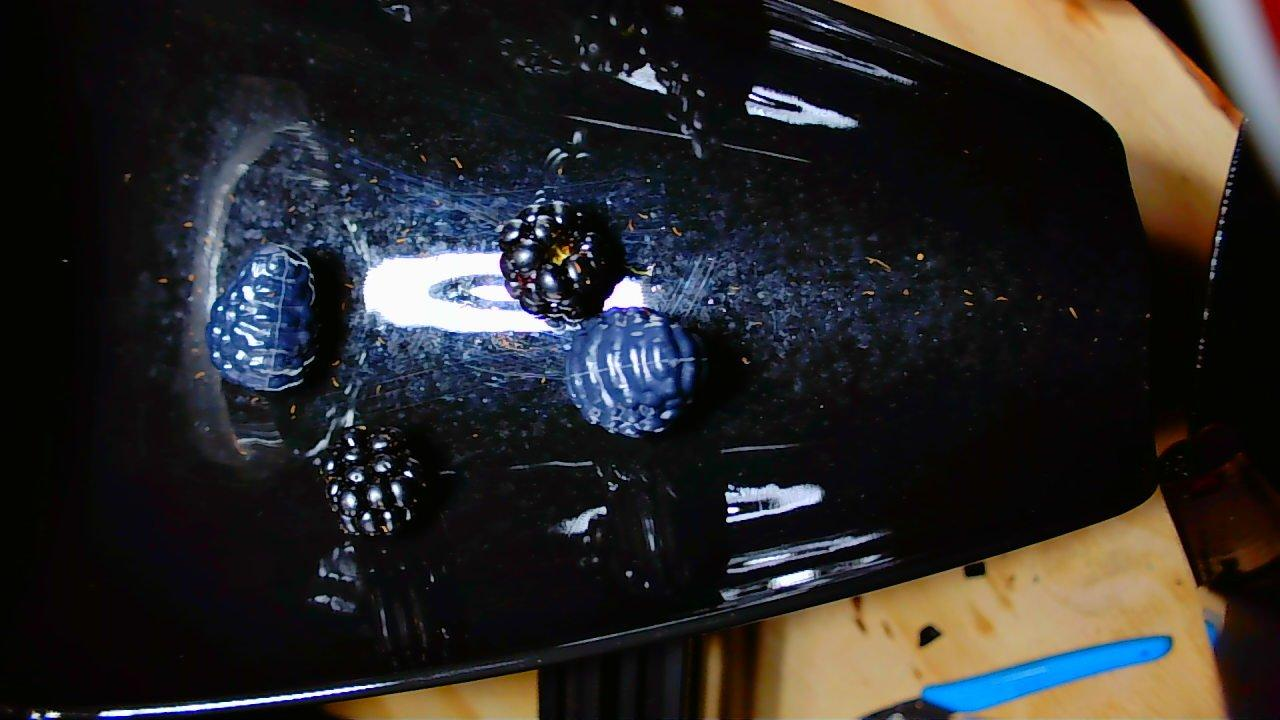berry: (565, 308, 708, 437), (205, 244, 315, 391), (498, 200, 624, 325), (320, 426, 423, 535)
